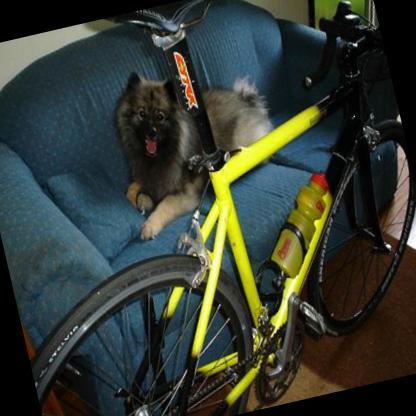keeshond: (100, 44, 288, 241)
